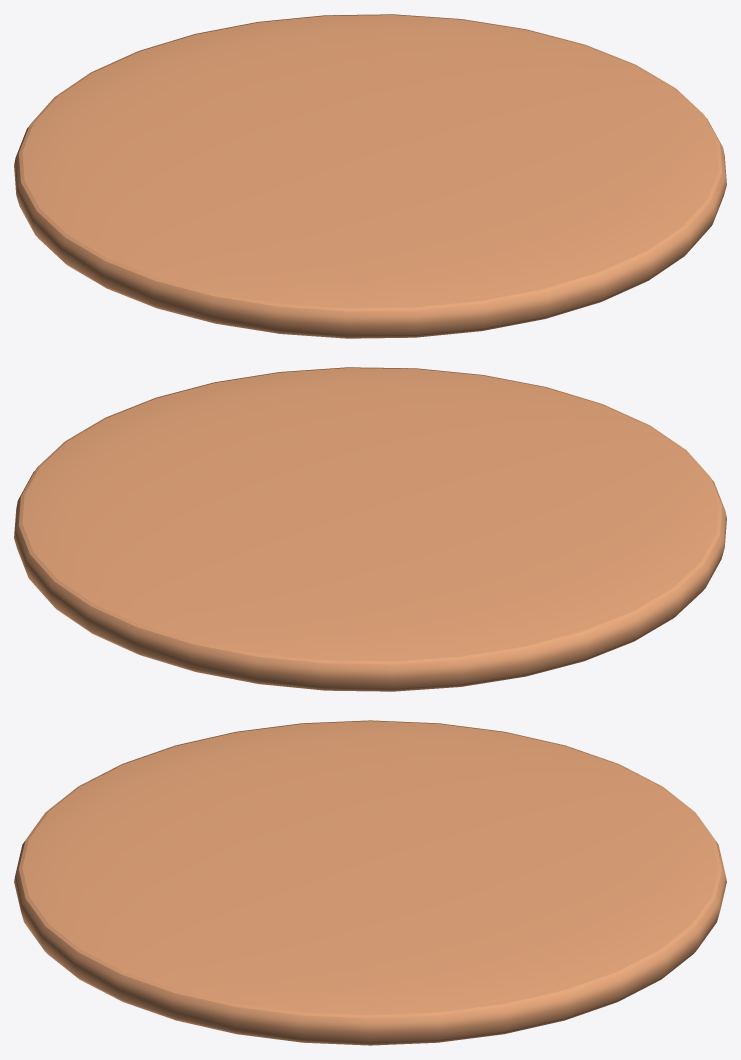
3 views of the same model, one above another, from view 1: azimuth 30°, elevation 25°; view 2: azimuth 150°, elevation 25°; view 3: azimuth 270°, elevation 25° (orthographic).
Parts seen in each view (by area): view 1: Dough.002; view 2: Dough.002; view 3: Dough.002.
Boxes of the visible parts, left/top/right/bottom form: Dough.002: left=14, top=14, right=726, bottom=338; Dough.002: left=14, top=367, right=726, bottom=691; Dough.002: left=14, top=720, right=726, bottom=1045.
Size of the model in its own units: 2.53 by 0.1677 by 2.53.
